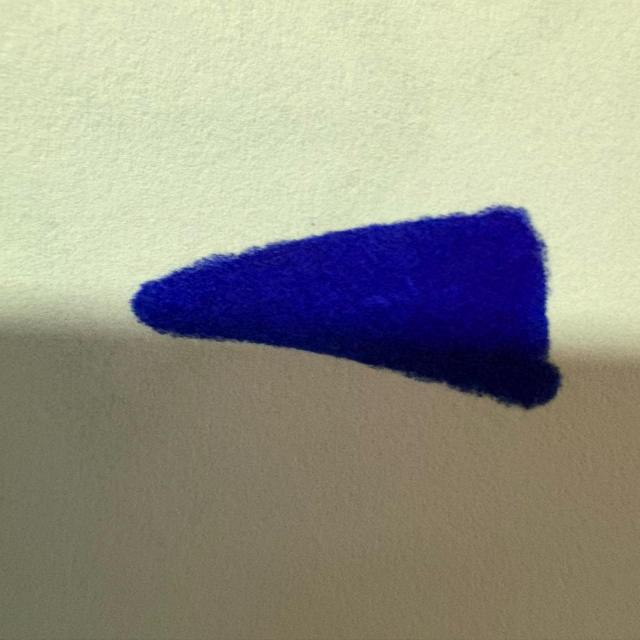Triangle: (119, 200, 581, 417)
